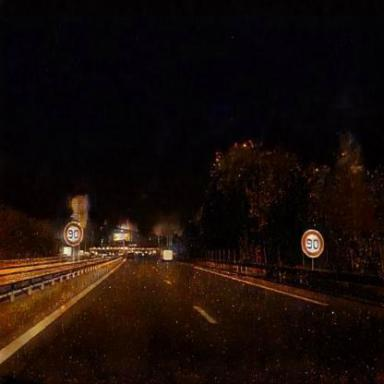Speed_limit_90: (300, 231, 324, 258), (63, 222, 83, 247)
